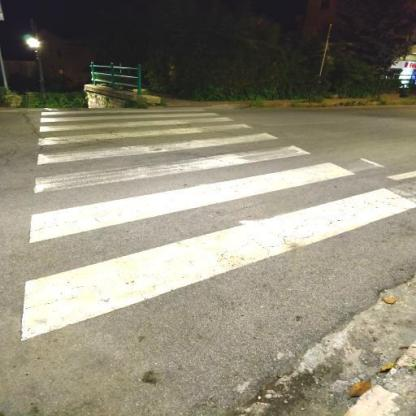crosswalk: (28, 142, 359, 249)
